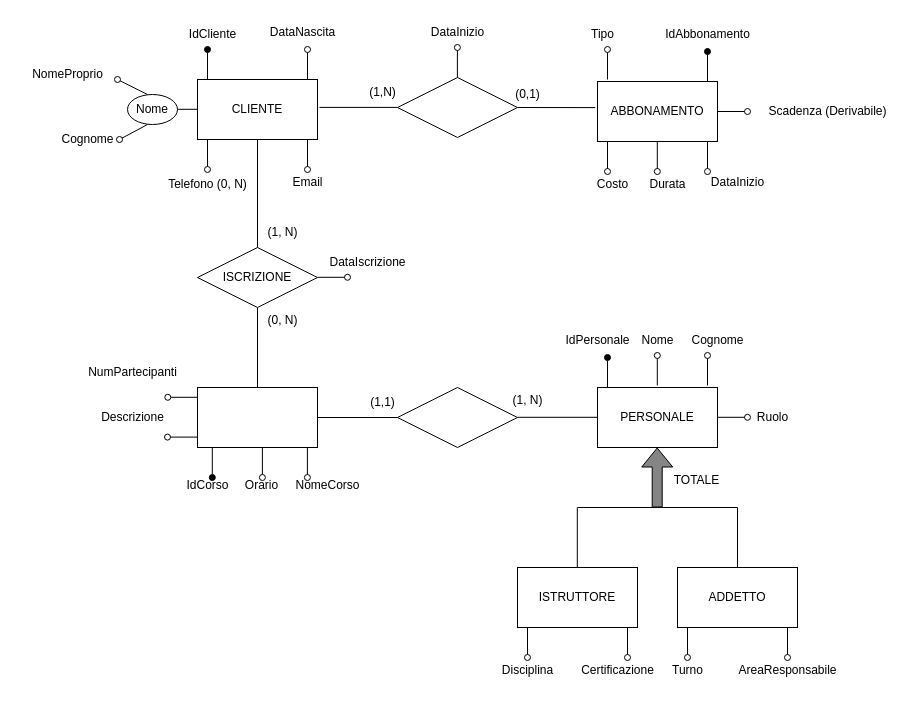
Image size: 914x702. Some labels were removed from this diagram. The centre of each missing label's shape, as x and y in pixels:
ABBONARE: [457,107]
CORSO: [257,417]
GESTIONE: [457,417]
